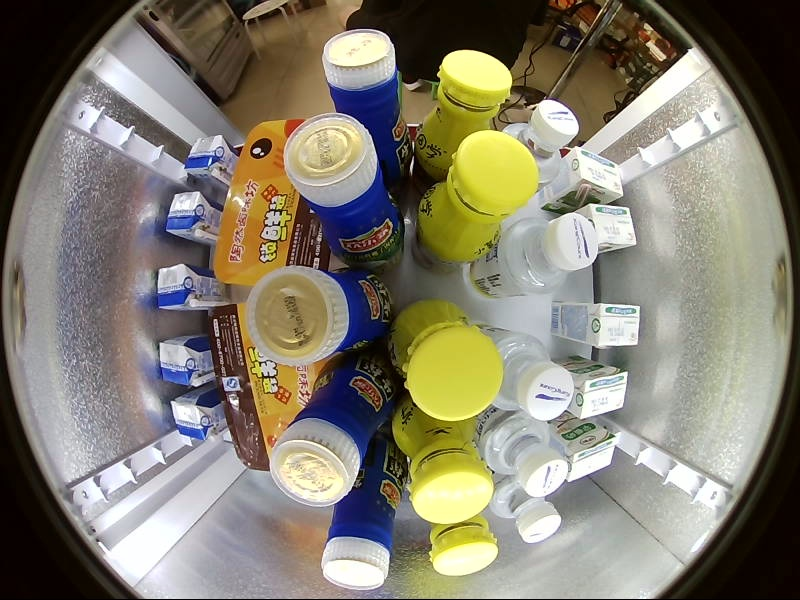ops-m102: (409, 129, 536, 270), (403, 48, 515, 195), (389, 295, 504, 424), (387, 393, 494, 524), (554, 364, 681, 464), (544, 225, 702, 282), (597, 313, 697, 381), (564, 463, 650, 522), (424, 515, 502, 580), (624, 131, 679, 195)
ops-m103: (480, 349, 631, 485), (496, 165, 651, 281), (479, 44, 588, 202), (484, 411, 602, 551), (484, 281, 661, 365), (580, 375, 703, 477), (572, 104, 686, 206), (581, 184, 718, 261), (580, 324, 729, 393), (581, 259, 728, 325)
ops-m104: (230, 140, 309, 217), (335, 121, 405, 202), (317, 270, 388, 346), (220, 281, 301, 346), (314, 346, 388, 417), (330, 182, 397, 260), (228, 352, 293, 424), (305, 412, 374, 472), (225, 206, 285, 269), (241, 424, 296, 483)
ops-m129: (254, 326, 329, 393), (268, 180, 339, 248), (264, 244, 343, 305), (274, 119, 344, 187), (257, 383, 325, 447), (169, 382, 229, 442), (180, 135, 239, 193), (165, 190, 223, 247), (157, 333, 219, 386)
ops-m141: (421, 297, 485, 365), (431, 221, 495, 286), (414, 362, 480, 420), (542, 229, 593, 291), (528, 391, 582, 448), (430, 418, 490, 464), (532, 343, 580, 395), (536, 287, 581, 340)
ops-m147: (346, 161, 424, 254), (322, 254, 409, 337), (329, 339, 414, 417), (465, 233, 547, 312), (327, 416, 405, 497), (456, 313, 535, 390), (471, 160, 546, 233), (450, 393, 536, 456), (347, 98, 422, 161), (472, 102, 547, 160)
ops-m148: (131, 93, 264, 217), (531, 87, 677, 194), (560, 355, 704, 460), (547, 191, 716, 280), (124, 389, 254, 493), (100, 166, 239, 261), (88, 247, 241, 331), (94, 326, 232, 417), (599, 277, 722, 370), (610, 447, 688, 520)
ops-m149: (536, 148, 624, 216), (549, 354, 628, 421), (546, 413, 618, 484), (210, 138, 278, 206), (548, 300, 640, 350), (194, 336, 265, 396), (200, 259, 279, 309), (201, 207, 270, 259), (567, 205, 637, 256), (198, 391, 261, 436)
ops-m150: (242, 148, 340, 221), (175, 344, 272, 410), (227, 224, 329, 279), (226, 379, 321, 431), (227, 286, 319, 337), (178, 152, 251, 215), (235, 333, 318, 384), (166, 290, 227, 336), (194, 419, 252, 467), (169, 226, 228, 272)
ops-m152: (478, 147, 645, 277), (475, 64, 619, 209), (453, 410, 580, 574), (269, 347, 401, 504), (282, 110, 407, 275), (472, 357, 625, 484), (319, 22, 413, 196), (242, 266, 394, 368), (321, 420, 408, 593), (480, 274, 661, 357)
ops-m154: (473, 212, 598, 298), (479, 321, 574, 422), (475, 408, 568, 500), (504, 93, 580, 190), (138, 119, 217, 196), (114, 256, 200, 325), (113, 333, 193, 405), (117, 192, 199, 261), (495, 475, 562, 547), (135, 396, 197, 468)
ops-m155: (321, 300, 476, 490), (329, 115, 477, 301), (213, 116, 333, 285), (202, 299, 317, 474)
ops-m156: (402, 194, 470, 258), (401, 268, 467, 332), (294, 138, 347, 215), (384, 331, 447, 394), (274, 311, 333, 374), (283, 226, 336, 290), (415, 135, 472, 194), (288, 380, 345, 436), (391, 394, 445, 441), (296, 438, 339, 487)
